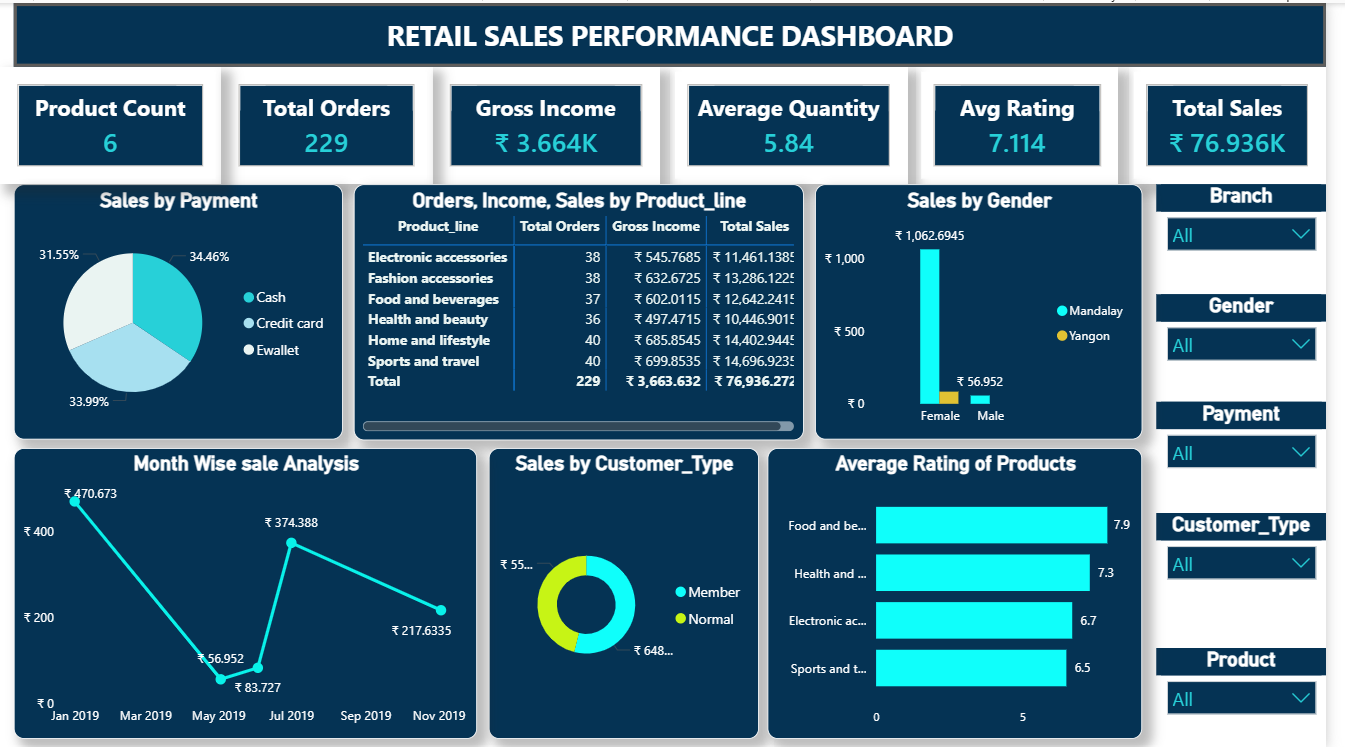

This screenshot's page, from the dashboard's own definition file:
{"tool":"powerbi","page":{"name":"Page 1","canvas":[1280,720],"ordinal":0},"visuals":[{"type":"cardVisual","title":"PROFIT","fields":{"Data":["Sales_Dataset.Gross Income"]},"box":[417.4,61.5,219.6,113.4],"z":0},{"type":"cardVisual","title":"PROFIT","fields":{"Data":["Sales_Dataset.Average Quantity"]},"box":[646.7,61.5,229.2,113.4],"z":1000},{"type":"cardVisual","title":"PROFIT","fields":{"Data":["Sales_Dataset.Average Rating"]},"box":[884.3,61.5,195.4,113.4],"z":2000},{"type":"cardVisual","title":"PROFIT","fields":{"Data":["Sales_Dataset.Total Sales"]},"box":[1089.4,61.5,190.6,113.4],"z":3000},{"type":"cardVisual","title":"PROFIT","fields":{"Data":["Sales_Dataset.Total Orders"]},"box":[213.5,61.5,203.9,113.4],"z":4000},{"type":"slicer","title":"Branch","fields":{"Values":["Sales_Dataset.Branch"]},"box":[1116,174.9,164.1,88.1],"z":5000},{"type":"slicer","title":"Payment","fields":{"Values":["Sales_Dataset.Payment"]},"box":[1116,384.9,164.1,88.1],"z":6000},{"type":"slicer","title":"Gender","fields":{"Values":["Sales_Dataset.Gender"]},"box":[1116,281.1,164.1,88.1],"z":7000},{"type":"slicer","title":"Customer_Type","fields":{"Values":["Sales_Dataset.Customer_type"]},"box":[1116,492.2,164.1,88.1],"z":8000},{"type":"slicer","title":"Product","fields":{"Values":["Sales_Dataset.Product_line"]},"box":[1116,622.5,164.1,86.9],"z":9000},{"type":"pieChart","title":"Sales by Payment","fields":{"Y":["Sales_Dataset.Total Sales"],"Category":["Sales_Dataset.Payment"]},"box":[13.3,174.9,317.3,246.1],"z":10000},{"type":"pivotTable","title":"Orders, Income, Sales by Product_line","fields":{"Values":["Sales_Dataset.Total Orders","Sales_Dataset.Gross Income","Sales_Dataset.Total Sales"],"Rows":["Sales_Dataset.Product_line"]},"box":[341.4,174.9,434.3,247.3],"z":11000},{"type":"donutChart","title":"Sales by Customer_Type","fields":{"Category":["Sales_Dataset.Customer_type"],"Y":["Sales_Dataset.Total Sales"]},"box":[471.7,429.5,260.6,281.1],"z":12000},{"type":"clusteredColumnChart","title":"Sales by Gender ","fields":{"Y":["Sales_Dataset.Total Sales"],"Category":["Sales_Dataset.Gender"],"Series":["Sales_Dataset.City"]},"box":[786.6,174.9,316.1,246.1],"z":13000},{"type":"lineChart","title":"Month Wise sale Analysis","fields":{"Category":["Sales_Dataset.Date.Variation.Date Hierarchy.Month"],"Y":["Sales_Dataset.Total Sales"]},"box":[13.3,429.5,447.6,281.1],"z":14000},{"type":"actionButton","box":[13.3,0,1266.8,61.5],"z":15000},{"type":"clusteredBarChart","title":"Average Rating of Products","fields":{"Category":["Sales_Dataset.Product_line"],"Y":["Avg(Sales_Dataset.Rating)"]},"box":[740.8,429.5,361.9,281.1],"z":16000},{"type":"cardVisual","title":"PROFIT","fields":{"Data":["Sales_Dataset.Customer Count"]},"box":[0,61.5,213.5,113.4],"z":17000}]}

Visuals, with their boxes in screenshot pixels (x1, y1, x2, y2), scaled from the page's 1280x720 canvas onto the 1345x747 screenshot:
"PROFIT" cardVisual: (439, 64, 669, 181)
"PROFIT" cardVisual: (680, 64, 920, 181)
"PROFIT" cardVisual: (929, 64, 1135, 181)
"PROFIT" cardVisual: (1145, 64, 1344, 181)
"PROFIT" cardVisual: (224, 64, 439, 181)
"Branch" slicer: (1173, 181, 1344, 273)
"Payment" slicer: (1173, 399, 1344, 491)
"Gender" slicer: (1173, 292, 1344, 383)
"Customer_Type" slicer: (1173, 511, 1344, 602)
"Product" slicer: (1173, 646, 1344, 736)
"Sales by Payment" pieChart: (14, 181, 347, 437)
"Orders, Income, Sales by Product_line" pivotTable: (359, 181, 815, 438)
"Sales by Customer_Type" donutChart: (496, 446, 769, 737)
"Sales by Gender " clusteredColumnChart: (827, 181, 1159, 437)
"Month Wise sale Analysis" lineChart: (14, 446, 484, 737)
actionButton: (14, 0, 1344, 64)
"Average Rating of Products" clusteredBarChart: (778, 446, 1159, 737)
"PROFIT" cardVisual: (0, 64, 224, 181)
